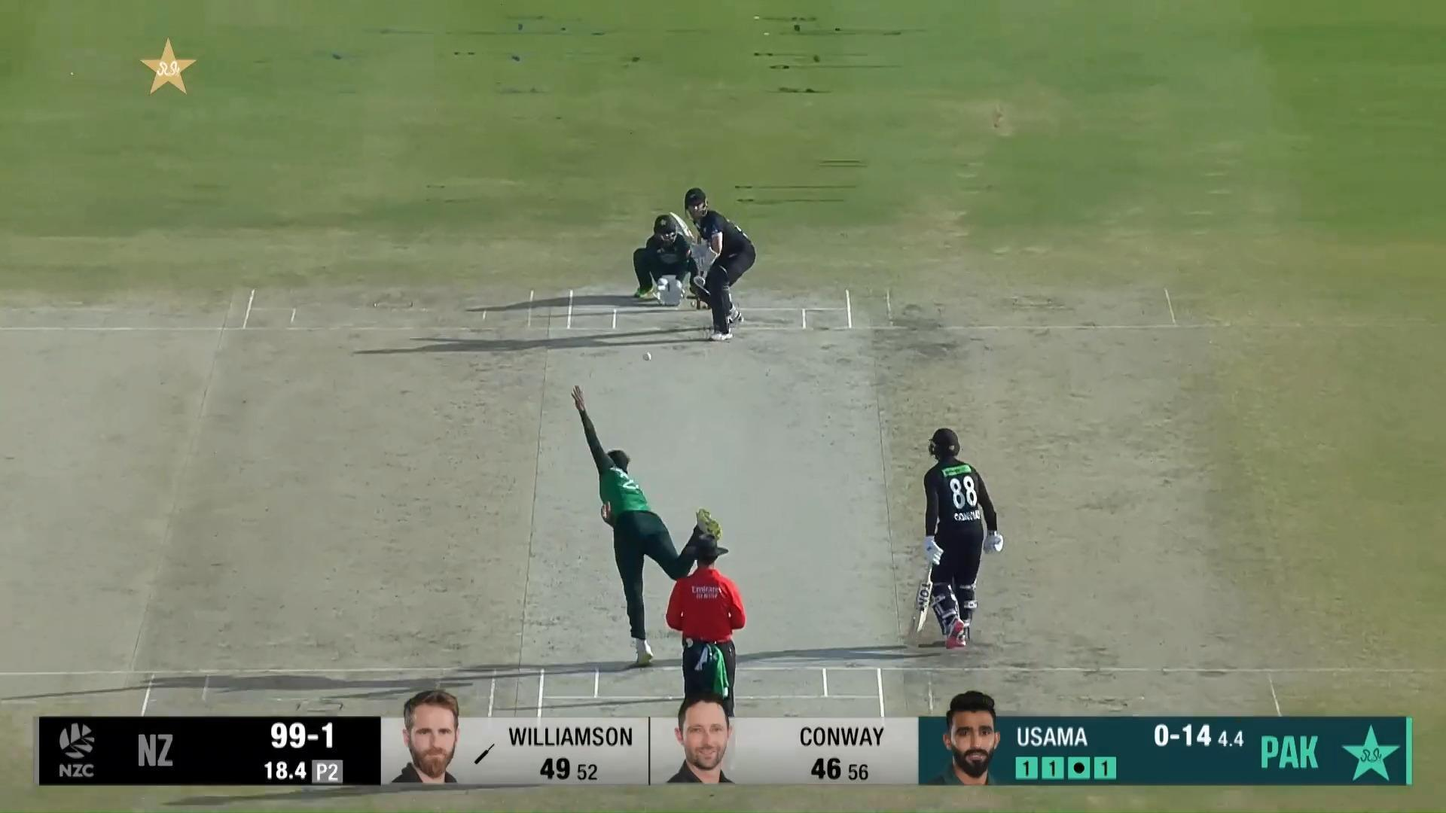BM 1: (669, 187, 756, 341)
BO: (571, 385, 722, 665)
